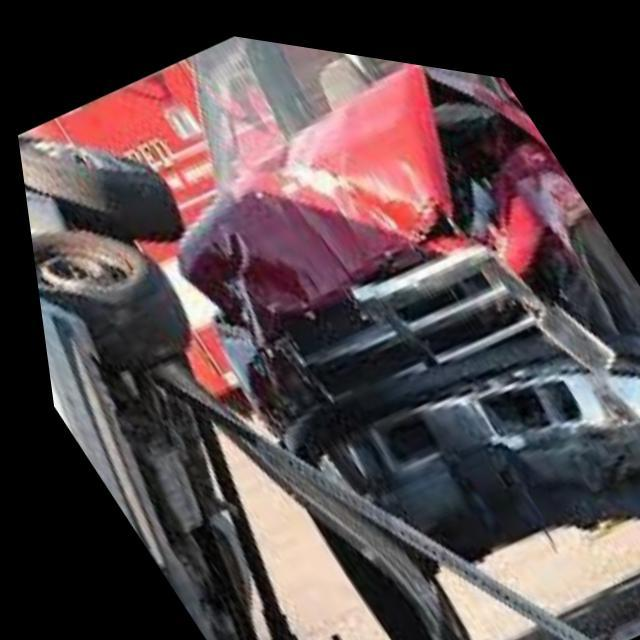crash: (160, 53, 640, 572)
